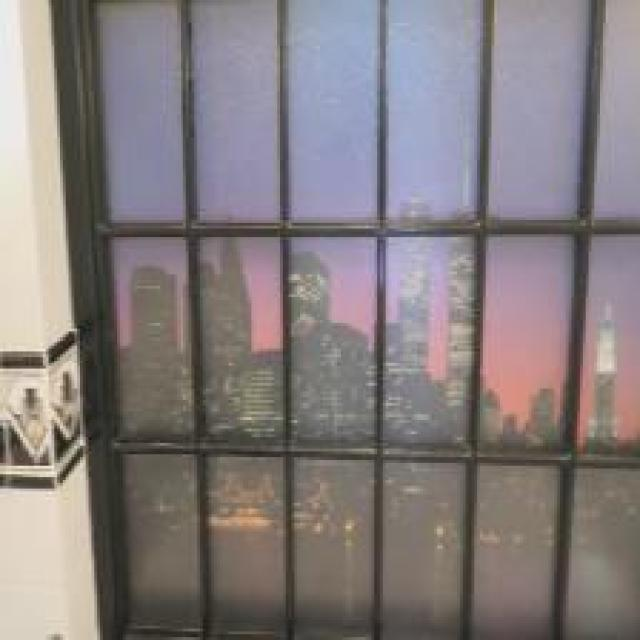other: (295, 262, 633, 456)
